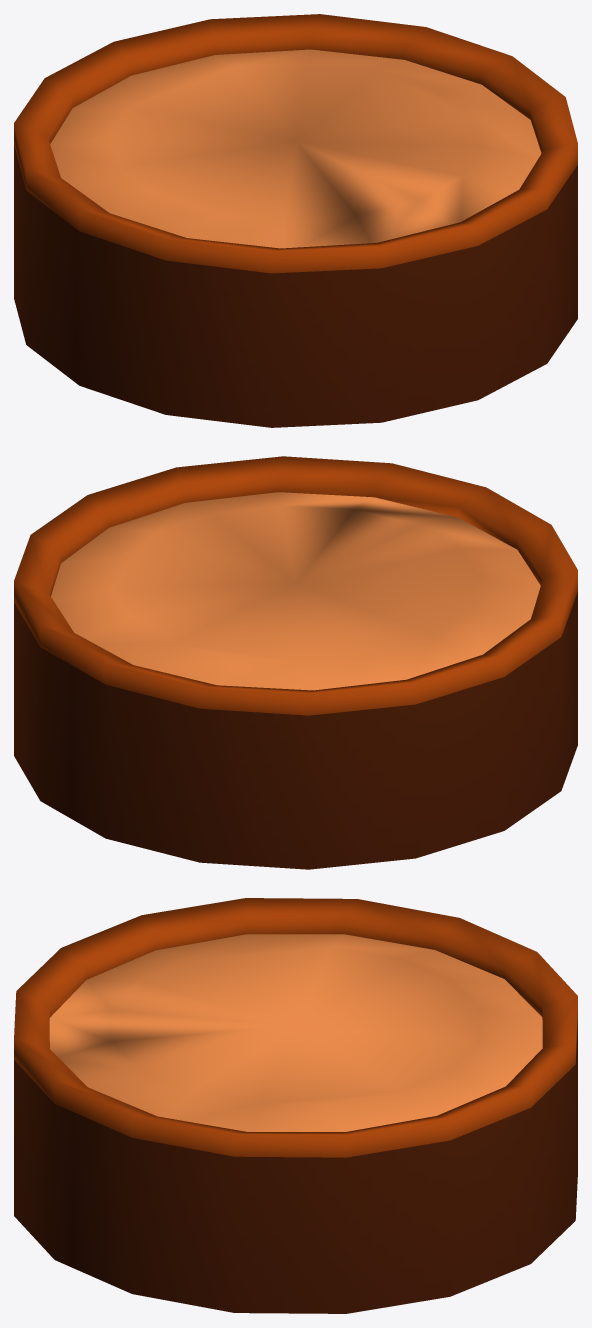
The model's file is Path_TreePit.fbx.
3 renders of one model, top to bottom at view 1: azimuth 30°, elevation 25°; view 2: azimuth 150°, elevation 25°; view 3: azimuth 270°, elevation 25°, orthographic.
Parts seen in each view (by area): view 1: Path_TreePit; view 2: Path_TreePit; view 3: Path_TreePit.
Part boxes in pixels (x1,y1,x2,y2): Path_TreePit: (14, 14, 577, 427); Path_TreePit: (14, 456, 577, 869); Path_TreePit: (14, 898, 577, 1313).
Size of the model in its own units: 240 by 83.23 by 240.
